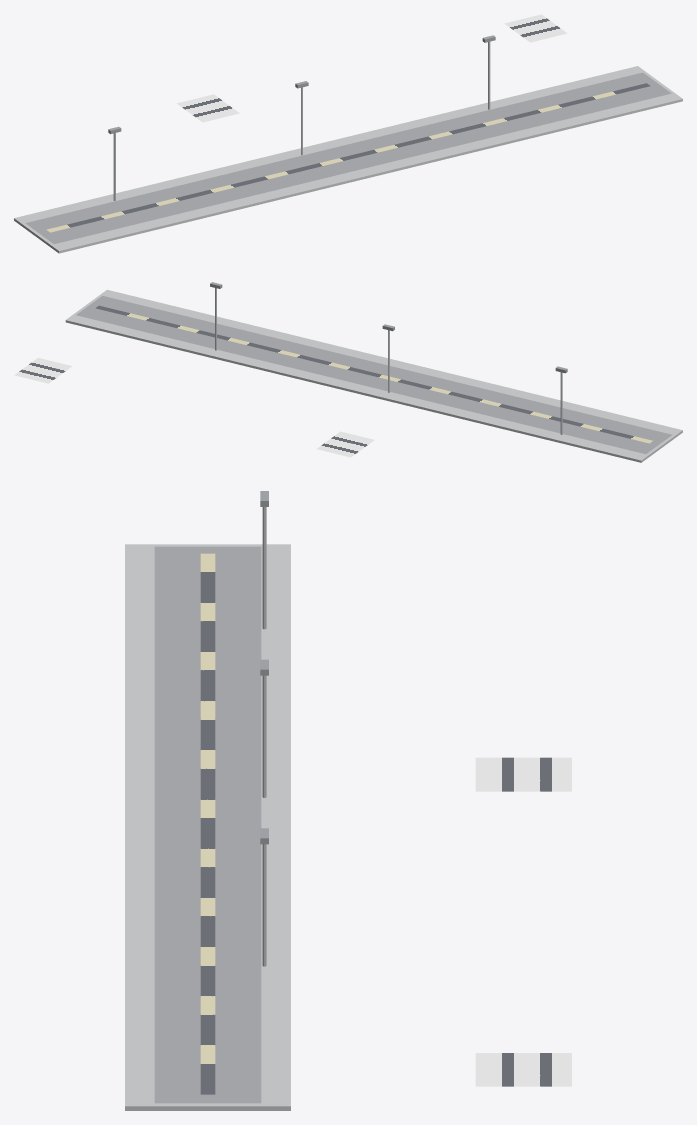
File: Area_road_s.glb
3 renders of one model, top to bottom at view 1: azimuth 30°, elevation 25°; view 2: azimuth 150°, elevation 25°; view 3: azimuth 270°, elevation 25°, orthographic. The views are drawn at different scales.
Parts seen in each view (by area): view 1: road_road_s, platform.009, dash_road_s, cwy_road_s_0, cwy_road_s_1; view 2: road_road_s, platform.009, dash_road_s, cwy_road_s_1, cwy_road_s_0; view 3: road_road_s, platform.009, dash_road_s, cwy_road_s_0, cwy_road_s_1.
Boxes of the visible parts, x1,y1,x2,y2 form: road_road_s: [25, 72, 671, 244]; platform.009: [14, 66, 682, 253]; dash_road_s: [46, 83, 650, 232]; cwy_road_s_0: [177, 94, 239, 122]; cwy_road_s_1: [504, 14, 567, 42]; road_road_s: [76, 295, 672, 454]; platform.009: [65, 289, 682, 462]; dash_road_s: [95, 305, 652, 443]; cwy_road_s_1: [14, 357, 72, 383]; cwy_road_s_0: [316, 431, 374, 457]; road_road_s: [154, 546, 261, 1103]; platform.009: [125, 544, 290, 1110]; dash_road_s: [200, 553, 215, 1094]; cwy_road_s_0: [475, 757, 571, 791]; cwy_road_s_1: [475, 1053, 571, 1086].
Bounding box in the file's own units: 40 × 4.55 × 13.45.
6 materials, 2 textured.
